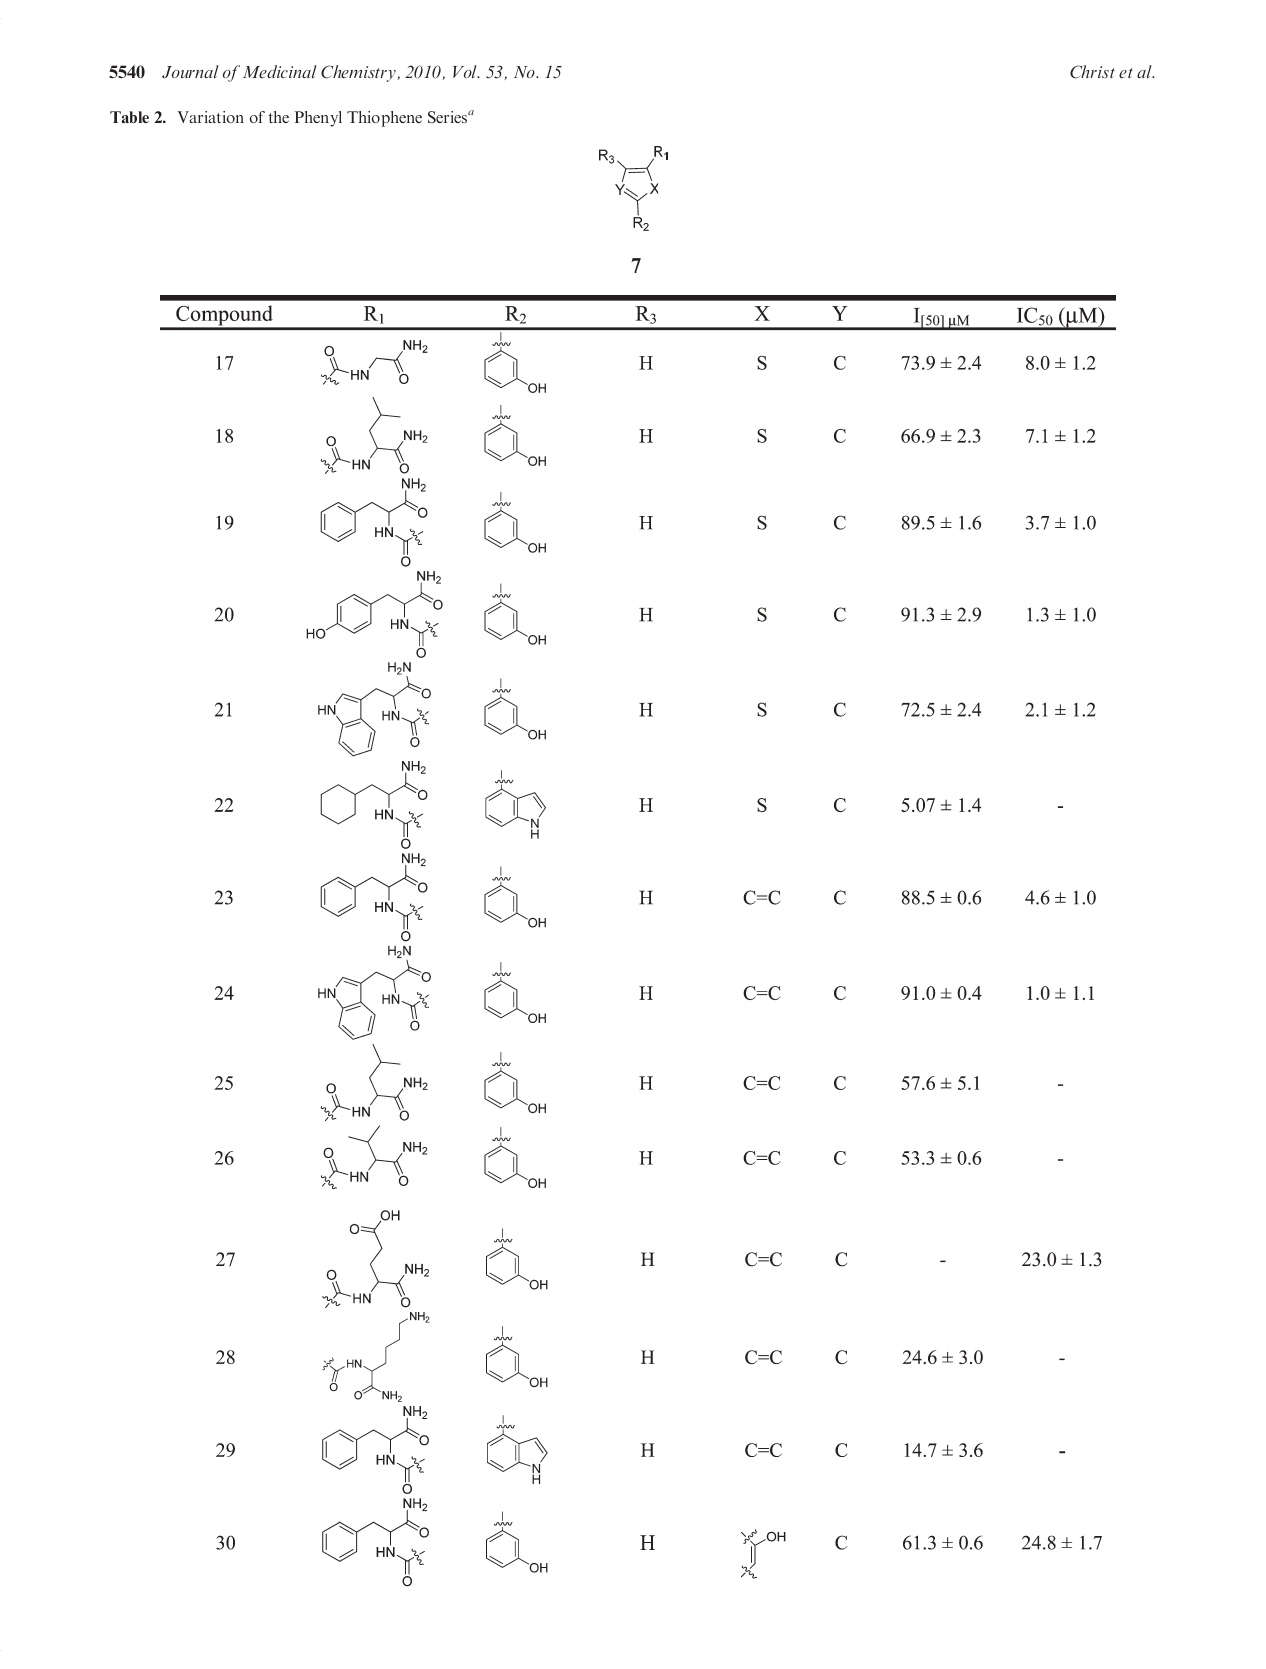exist_molecular: (303, 567, 445, 662), (316, 1204, 439, 1310), (316, 943, 435, 1043), (320, 1309, 442, 1404), (316, 662, 438, 755), (316, 477, 442, 567), (318, 1496, 438, 1588), (318, 1406, 438, 1496), (316, 758, 430, 851), (318, 851, 428, 943), (318, 1045, 435, 1122), (320, 392, 426, 477), (316, 1122, 430, 1194), (598, 142, 674, 234), (315, 336, 430, 390), (483, 1414, 556, 1489), (477, 400, 556, 471), (480, 765, 552, 840), (483, 1319, 556, 1391), (480, 1047, 552, 1118), (480, 577, 551, 649), (483, 1125, 555, 1196), (483, 862, 551, 935), (481, 487, 551, 556), (483, 1505, 552, 1575), (481, 330, 548, 400), (485, 1223, 552, 1294), (481, 960, 547, 1031), (480, 677, 547, 745)
